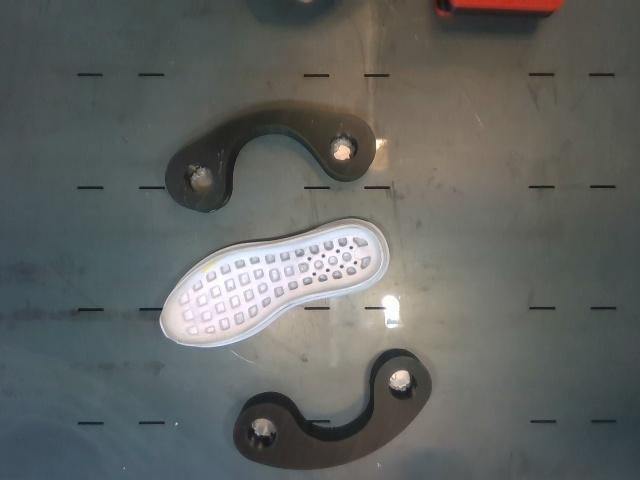shoes: (161, 227, 381, 344)
